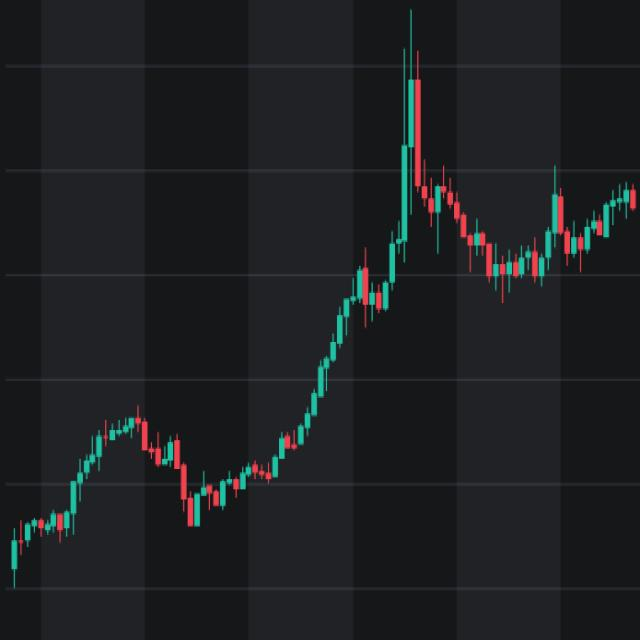Resistance-Emerging: (385, 26, 640, 361)
Resistance-breakout: (47, 216, 364, 544)
